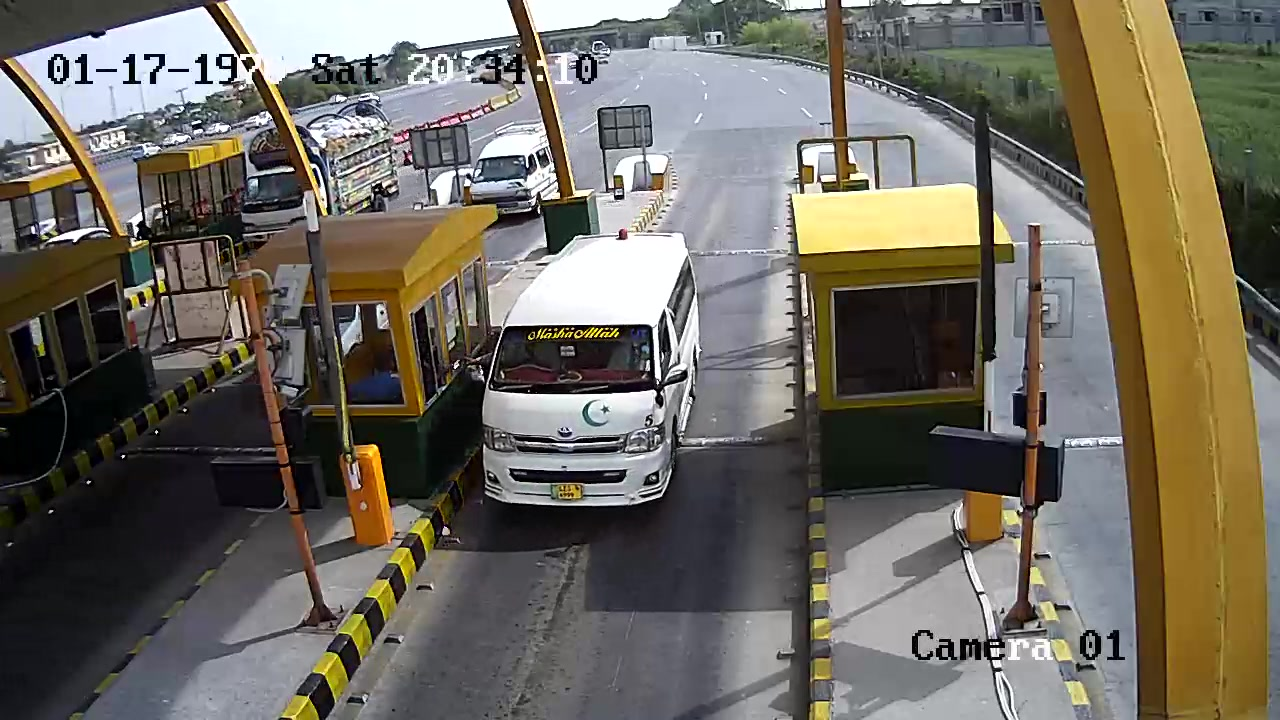F3: (470, 227, 710, 556)
